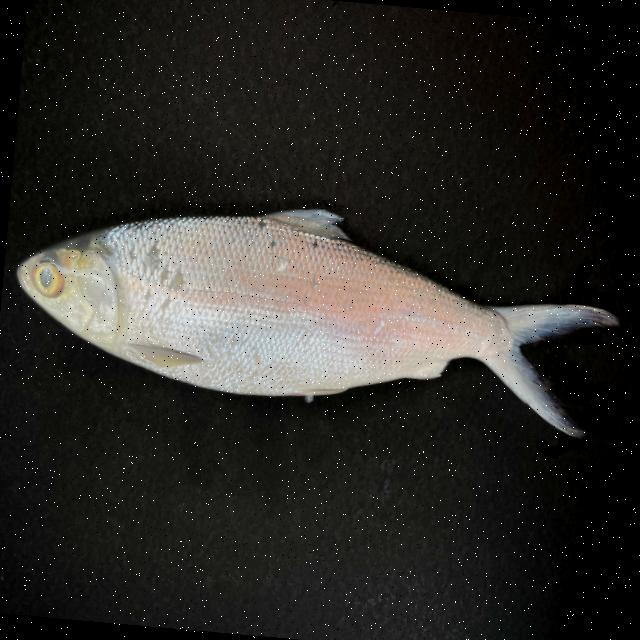800 g: (5, 182, 628, 440)
